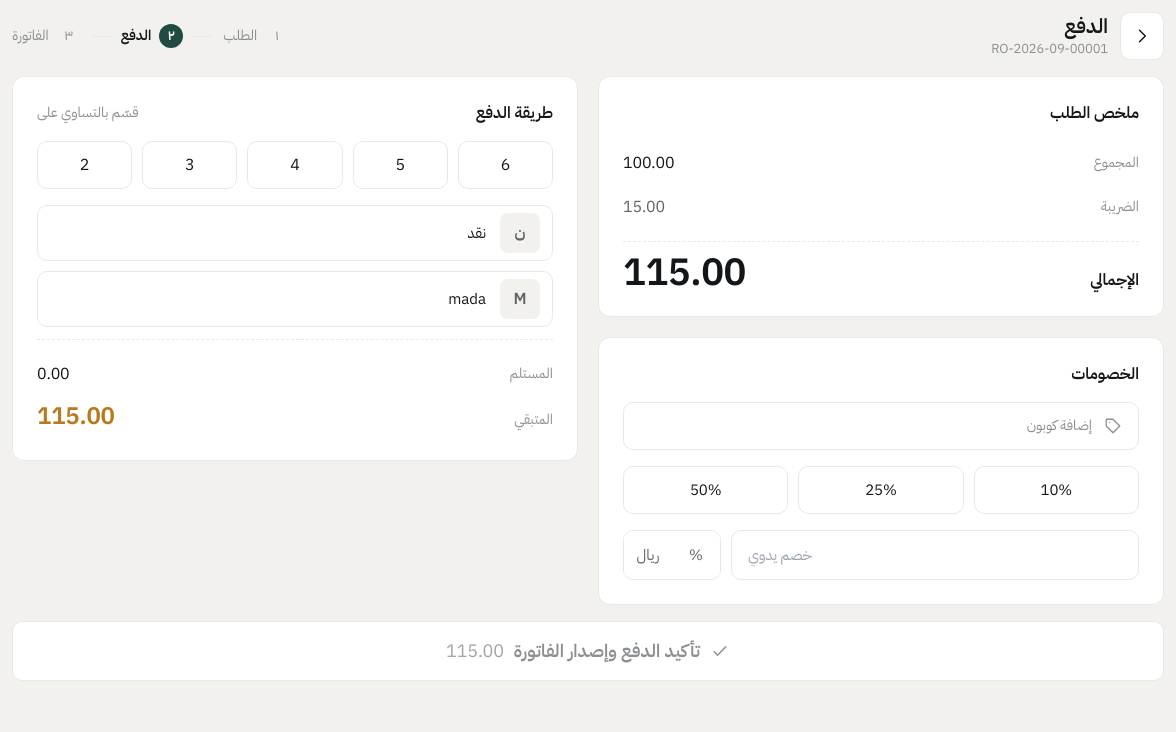
what the payment screen lets a cashier reach › takes what is owed on one tap of a card, and Pay is the second
The image size is (1176, 732).
Click the button "M mada": [520, 299] box [37,271,553,327]
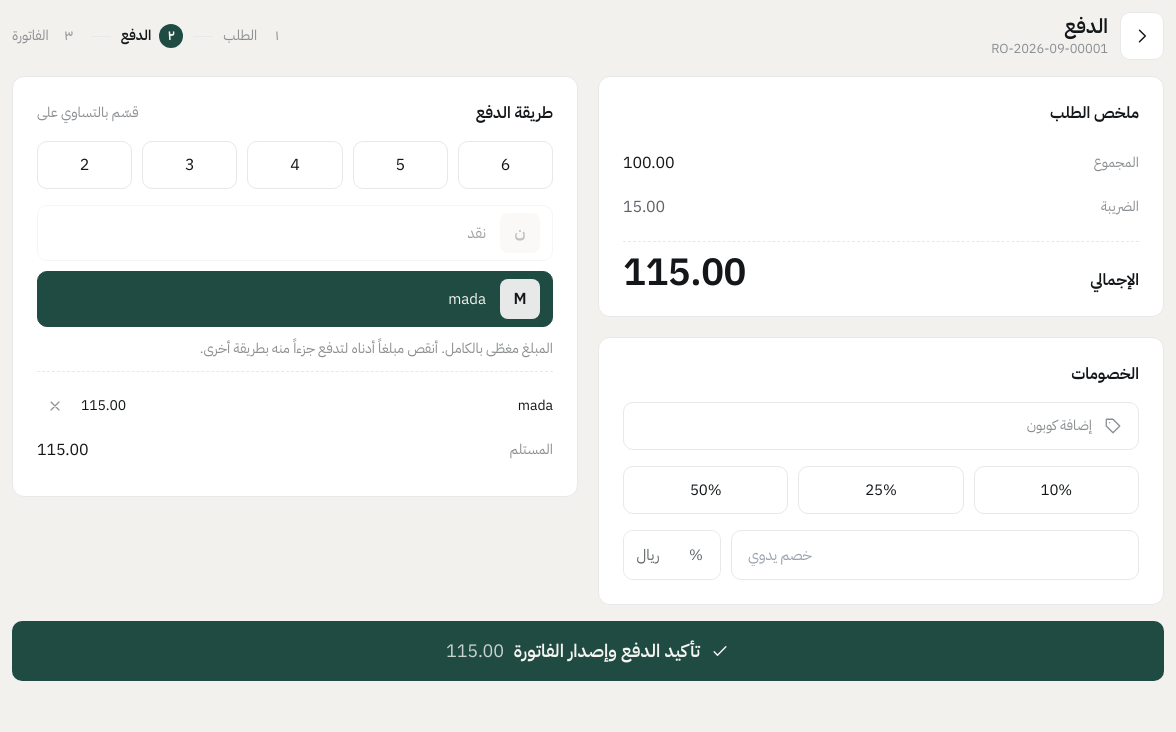
Now the button "تأكيد الدفع وإصدار الفاتورة 115.00" is enabled, box [12,621,1164,681]
